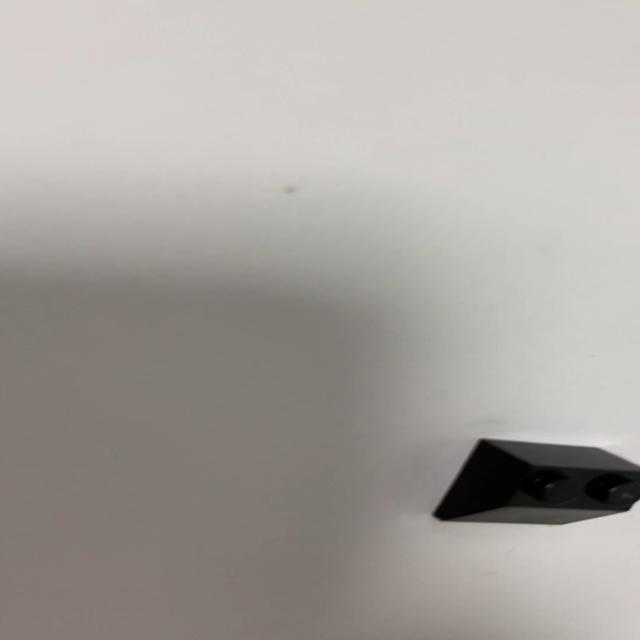P2x2x1: (424, 435, 640, 529)
